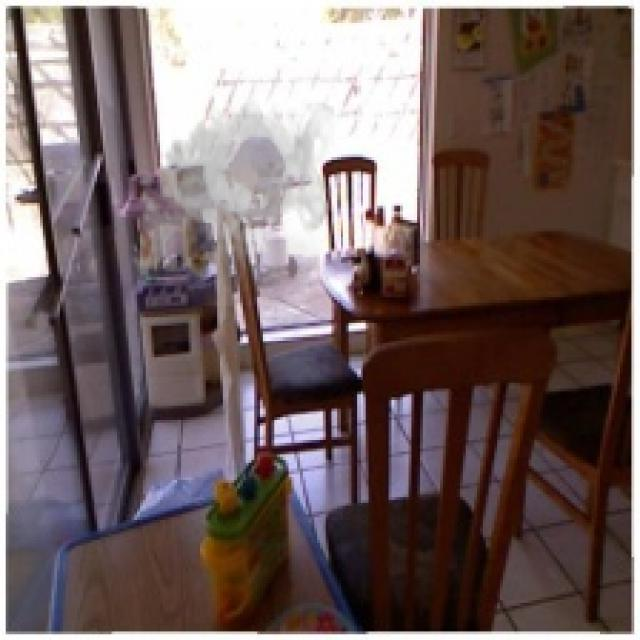smoke: (126, 97, 334, 306)
